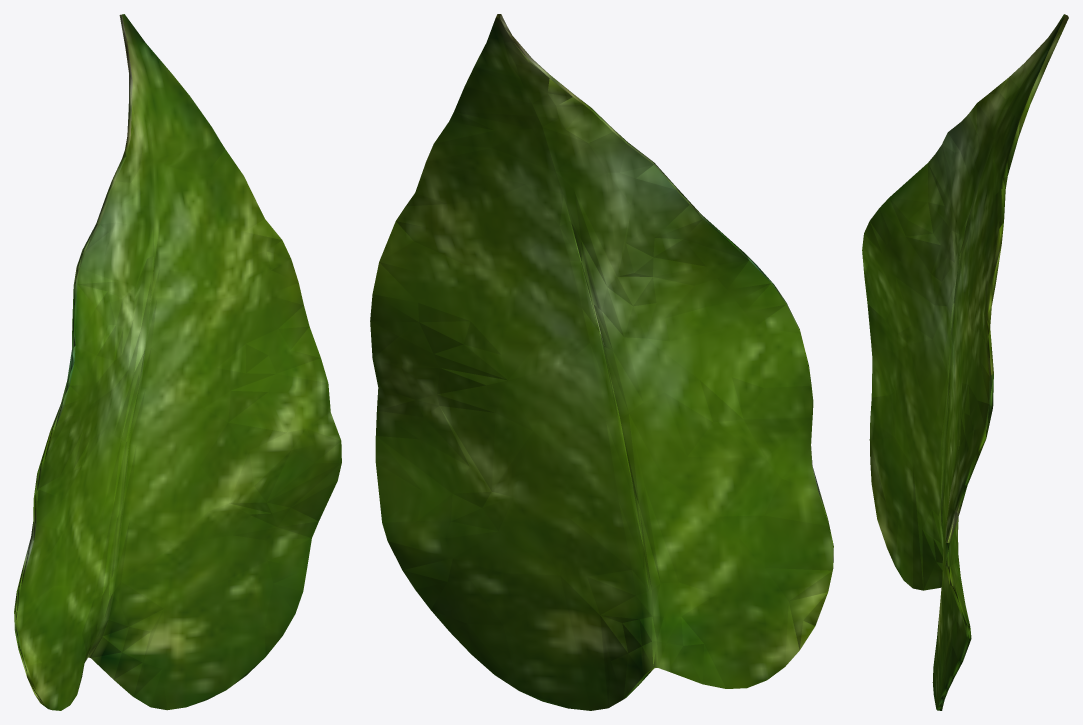
The picture shows the model from 3 angles, left to right: view 1: azimuth 30°, elevation 25°; view 2: azimuth 150°, elevation 25°; view 3: azimuth 270°, elevation 25°; orthographic projection. The views are drawn at different scales.
Parts seen in each view (by area): view 1: Plane.014; view 2: Plane.014; view 3: Plane.014.
Part boxes in pixels (x1,y1,x2,y2): Plane.014: [14, 14, 341, 710]; Plane.014: [370, 14, 833, 710]; Plane.014: [862, 14, 1068, 710].
Bounding box in the file's own units: 0.7177 × 1.23 × 0.3387.
1 material, 1 textured.
